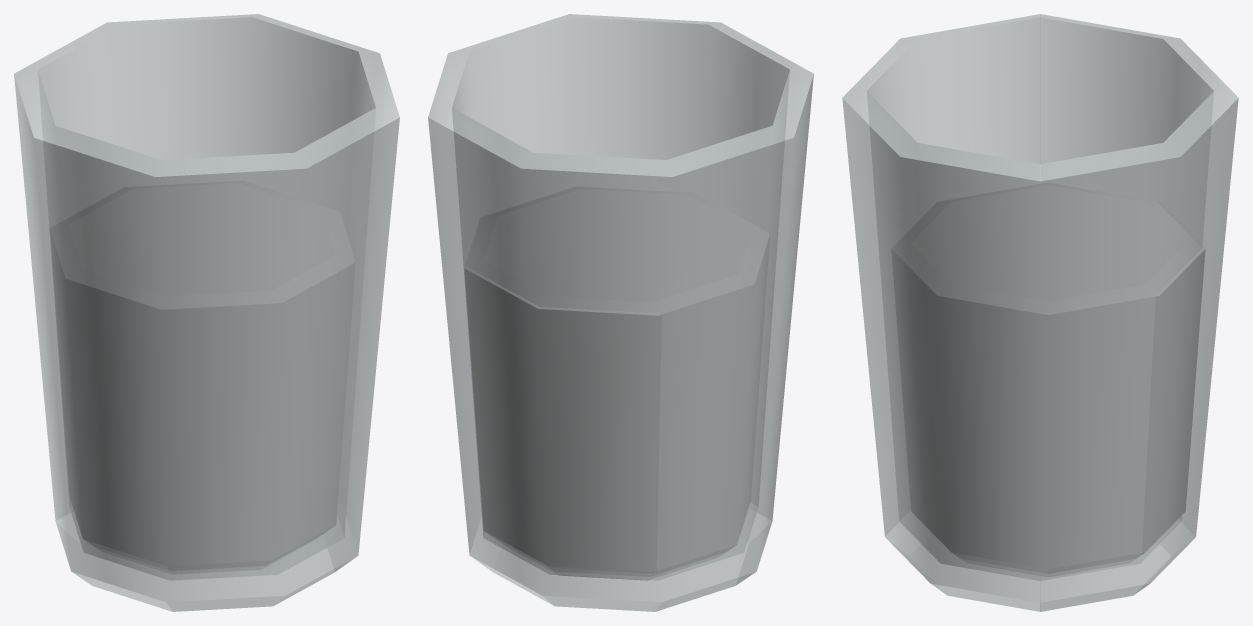
The model's file is CupandMilk.fbx.
3 renders of one model, left to right at view 1: azimuth 30°, elevation 25°; view 2: azimuth 150°, elevation 25°; view 3: azimuth 270°, elevation 25°, orthographic.
Visible parts, largest first — view 1: pCylinder89, pCylinder94; view 2: pCylinder89, pCylinder94; view 3: pCylinder89, pCylinder94.
Part boxes in pixels (box(x1,y1,x2,y2)): pCylinder89: box(14, 14, 399, 611); pCylinder94: box(50, 181, 355, 570); pCylinder89: box(428, 14, 813, 611); pCylinder94: box(464, 186, 769, 580); pCylinder89: box(842, 14, 1238, 611); pCylinder94: box(891, 183, 1205, 573).
Bounding box in the file's own units: 2.56 × 3.32 × 2.56.
Materials: 2 (1 with a texture image).
